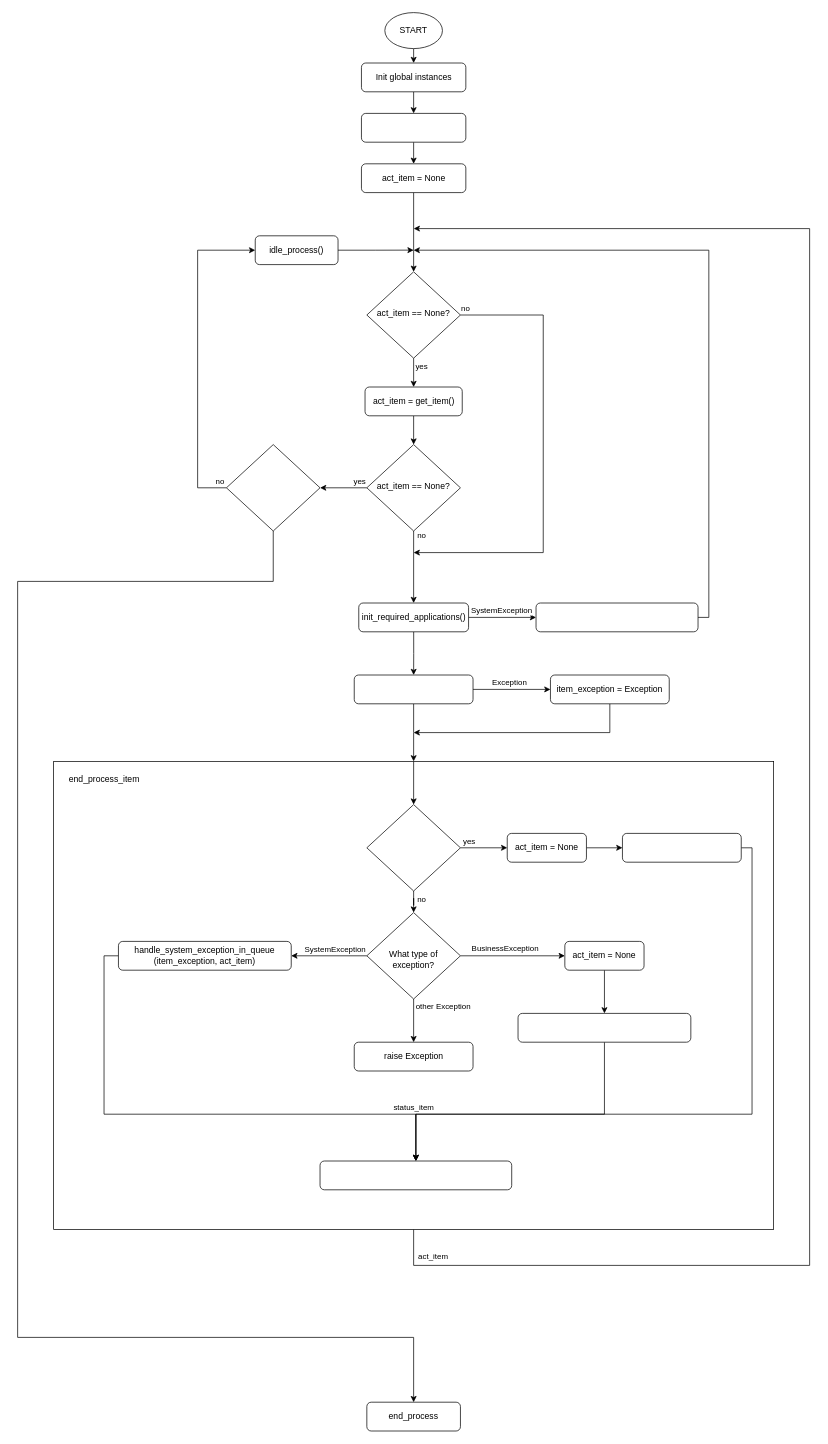
Image size: 828x1444. Some labels were removed from this diagram. The shapes that lost their labels are listed below. From the top down, each one's box as (x1, y1, x2, y2) in pixels, then its label:
(361, 113, 466, 142): item_exception = None
(226, 444, 320, 531): one_time_program?
(535, 602, 698, 632): ide_process_initialization(se, act_item)
(354, 674, 473, 704): process_item(act_item)
(366, 804, 460, 891): item_exception == None?
(622, 833, 741, 862): handle_success(act_item)
(517, 1013, 691, 1042): handle_business_exception_in_queue (item_exception, act_item )
(319, 1160, 512, 1190): set_output_values_to_database(status_item)
